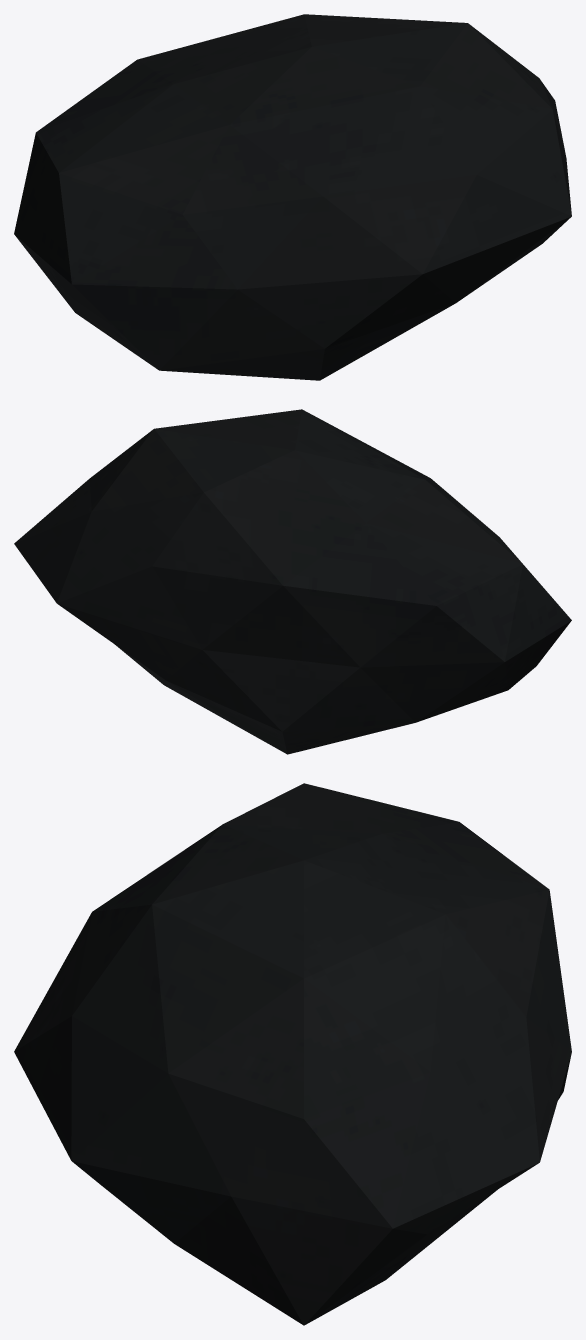
The model's file is rock.glb.
3 views of the same model, one above another, from view 1: azimuth 30°, elevation 25°; view 2: azimuth 150°, elevation 25°; view 3: azimuth 270°, elevation 25° (orthographic). The views are drawn at different scales.
Parts seen in each view (by area): view 1: Rock; view 2: Rock; view 3: Rock.
Part boxes in pixels (<box>): Rock: <box>14,14,571,380</box>; Rock: <box>14,409,571,754</box>; Rock: <box>14,783,571,1325</box>.
Bounding box in the file's own units: 2.61 × 1.28 × 1.75.
1 material, 1 textured.
